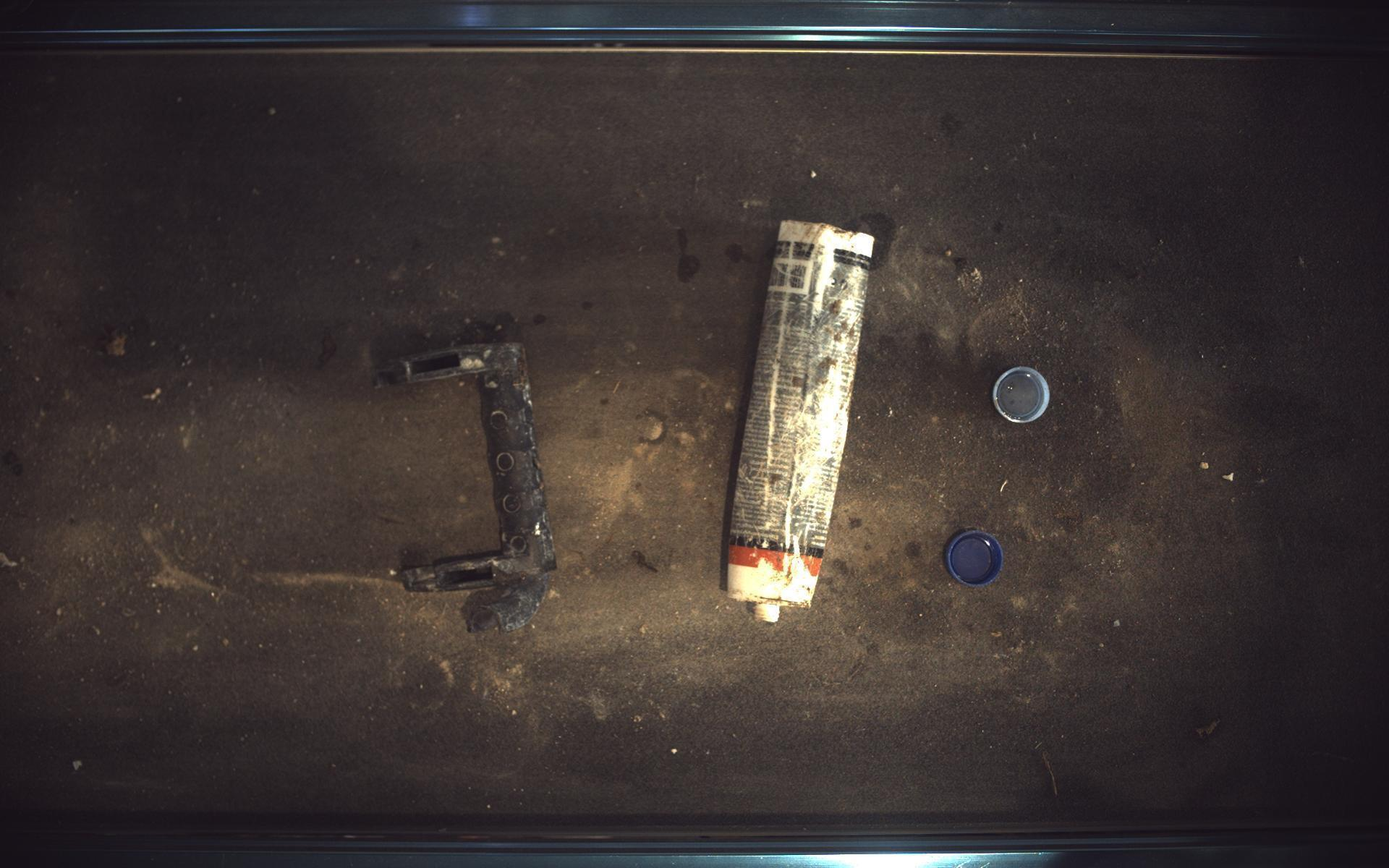general_w: (375, 343, 556, 633), (994, 366, 1053, 424), (946, 530, 1006, 587)
plastic: (728, 220, 877, 623)
